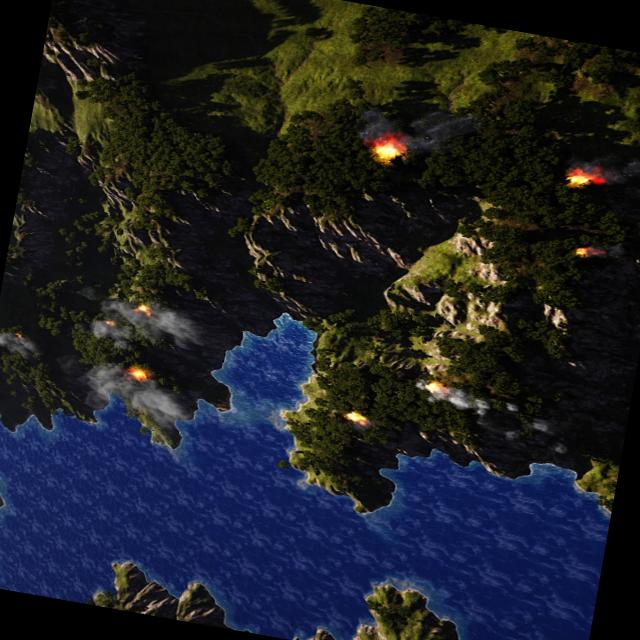fire: (371, 138, 402, 161), (568, 168, 596, 188), (128, 364, 150, 380), (343, 409, 366, 424), (428, 378, 448, 392), (134, 303, 152, 316), (575, 245, 591, 258), (14, 331, 26, 339), (105, 318, 116, 326)
smoke: (59, 352, 201, 428), (71, 283, 210, 359), (411, 379, 562, 448), (352, 92, 480, 160), (561, 142, 640, 195), (0, 327, 39, 358), (582, 240, 628, 261)
